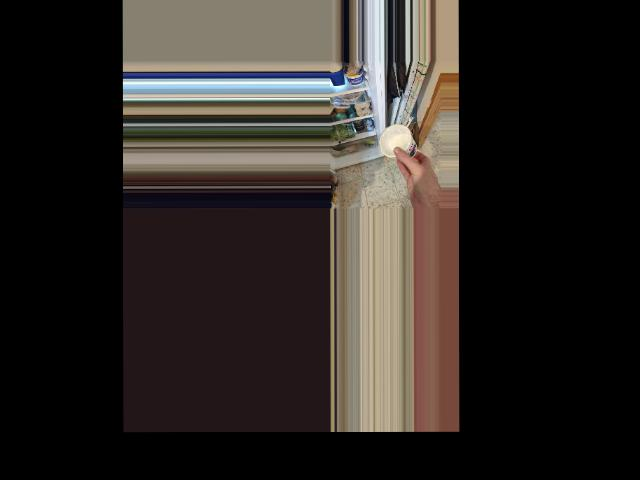cotage: (379, 122, 419, 160)
